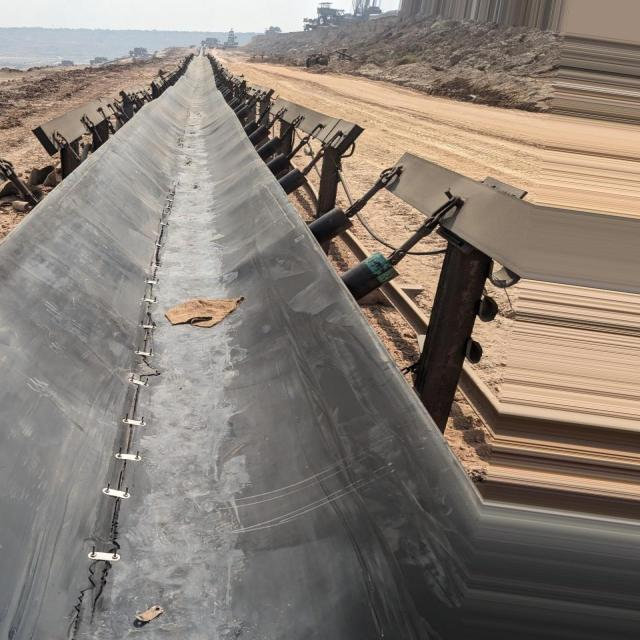Other Objects: (165, 297, 244, 327)
Roller: (229, 96, 308, 192), (340, 252, 400, 301), (307, 207, 353, 245)
patch work: (56, 208, 180, 628)
